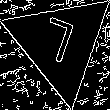L_S: (38, 14, 83, 73)
